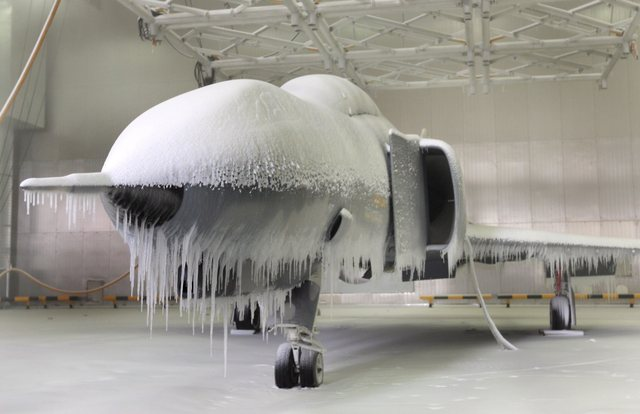F4: (18, 74, 640, 390)
